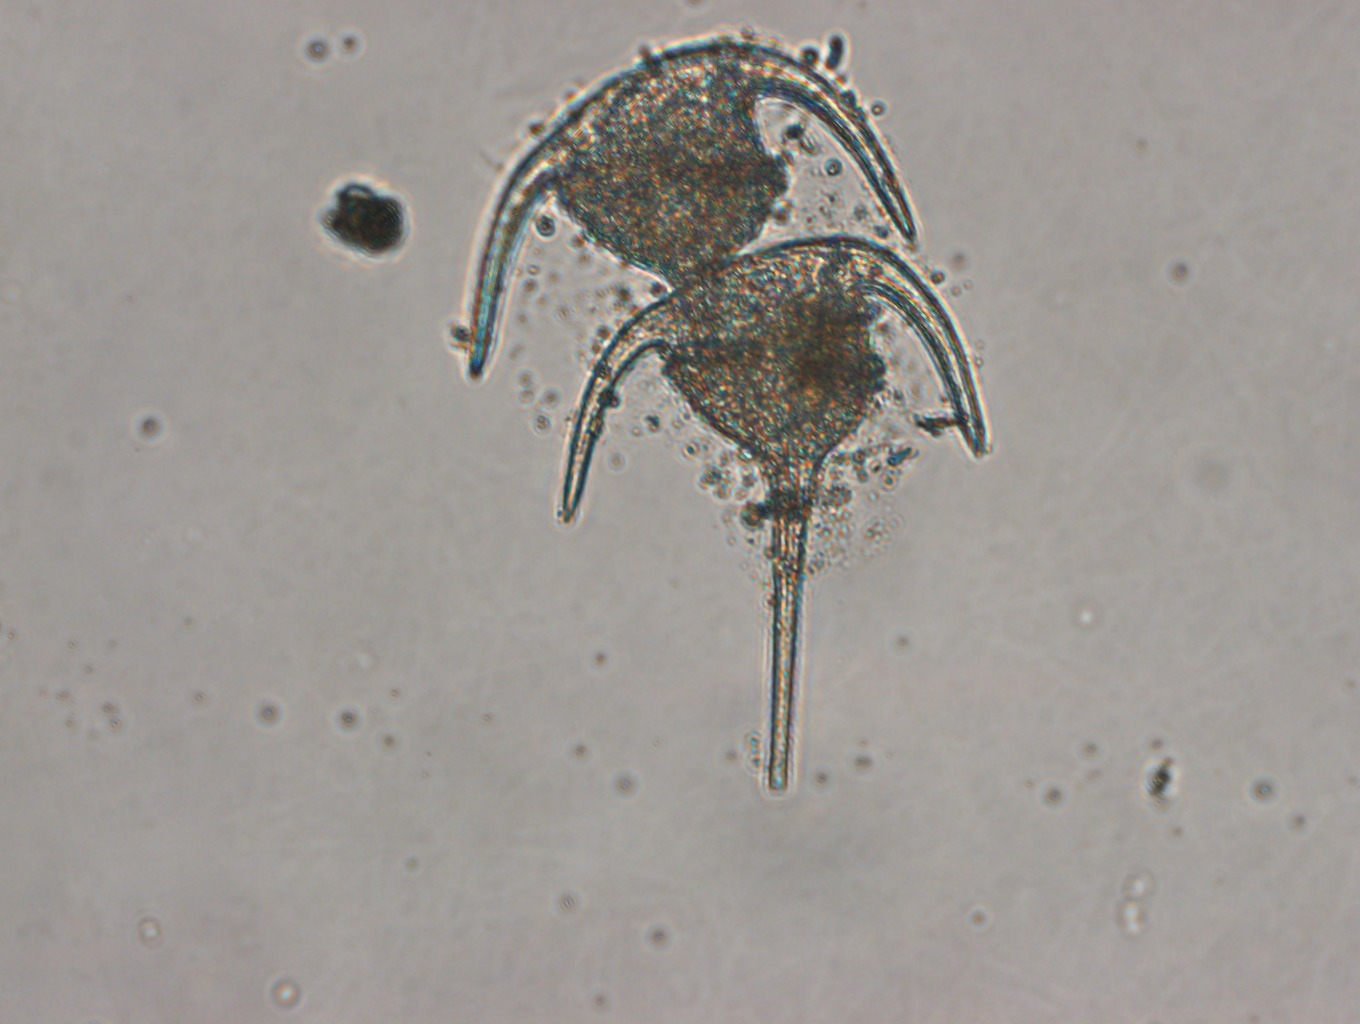ceratium tripos: (562, 232, 989, 797), (467, 35, 920, 383)
